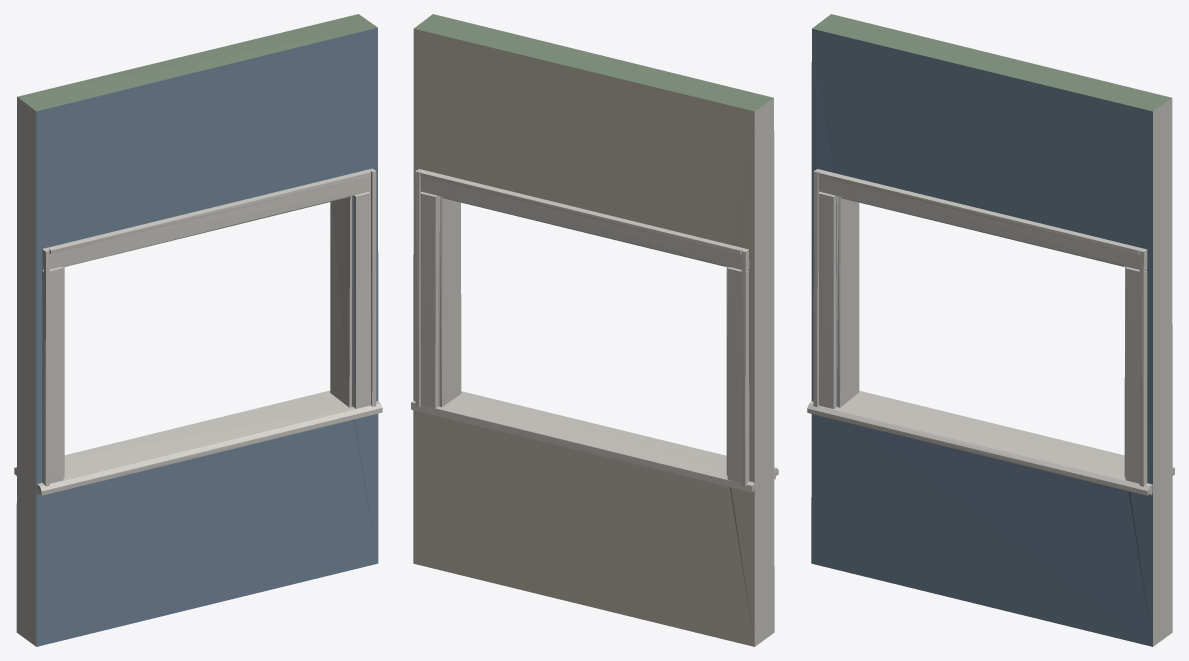
The model's file is SM_Kit_Wall_Window2_LOD2.glb.
3 views of the same model, side by side, from view 1: azimuth 30°, elevation 25°; view 2: azimuth 150°, elevation 25°; view 3: azimuth 330°, elevation 25° (orthographic).
Parts seen in each view (by area): view 1: SM_Kit_Wall_Window2_LOD2; view 2: SM_Kit_Wall_Window2_LOD2; view 3: SM_Kit_Wall_Window2_LOD2.
Boxes of the visible parts, x1,y1,x2,y2 form: SM_Kit_Wall_Window2_LOD2: [14, 14, 382, 646]; SM_Kit_Wall_Window2_LOD2: [411, 14, 778, 646]; SM_Kit_Wall_Window2_LOD2: [807, 14, 1174, 646].
Bounding box in the file's own units: 2 × 3 × 0.2852.
